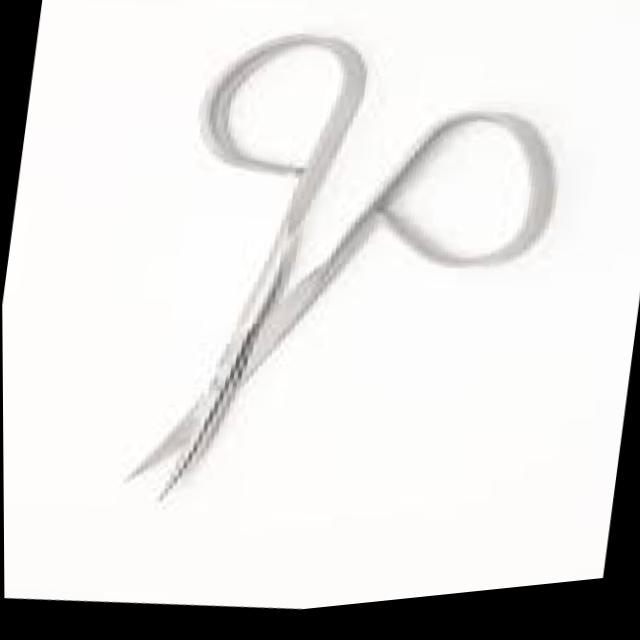scissor: (112, 0, 575, 558)
